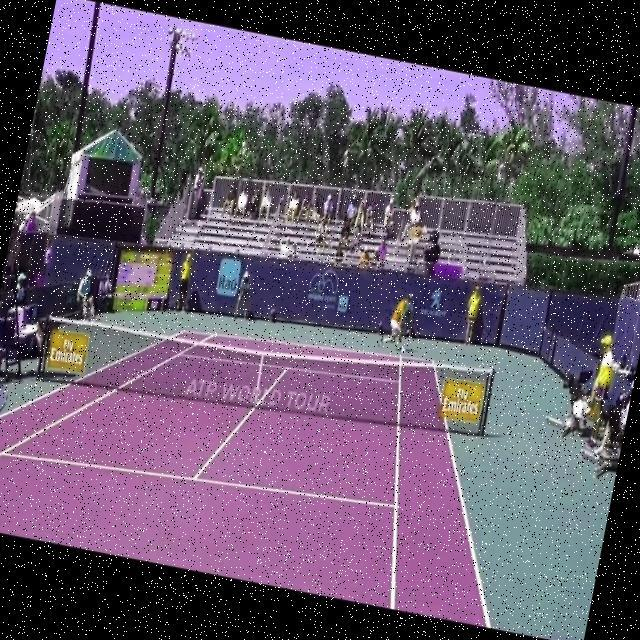court: (0, 276, 539, 628)
net: (36, 282, 498, 454)
player: (0, 376, 29, 529)
